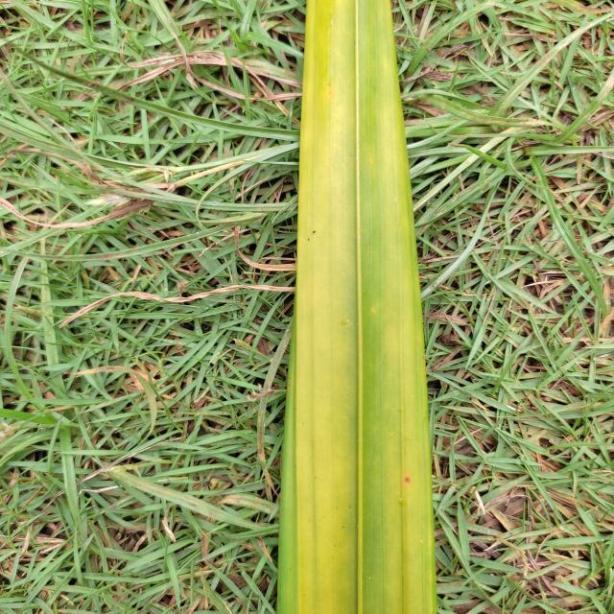nitrogen: (283, 0, 435, 614)
